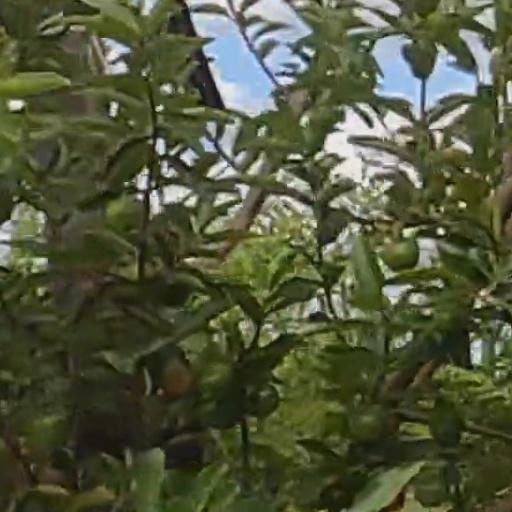acerola: (349, 404, 396, 439), (412, 470, 447, 507), (382, 239, 419, 271), (106, 200, 144, 230)
